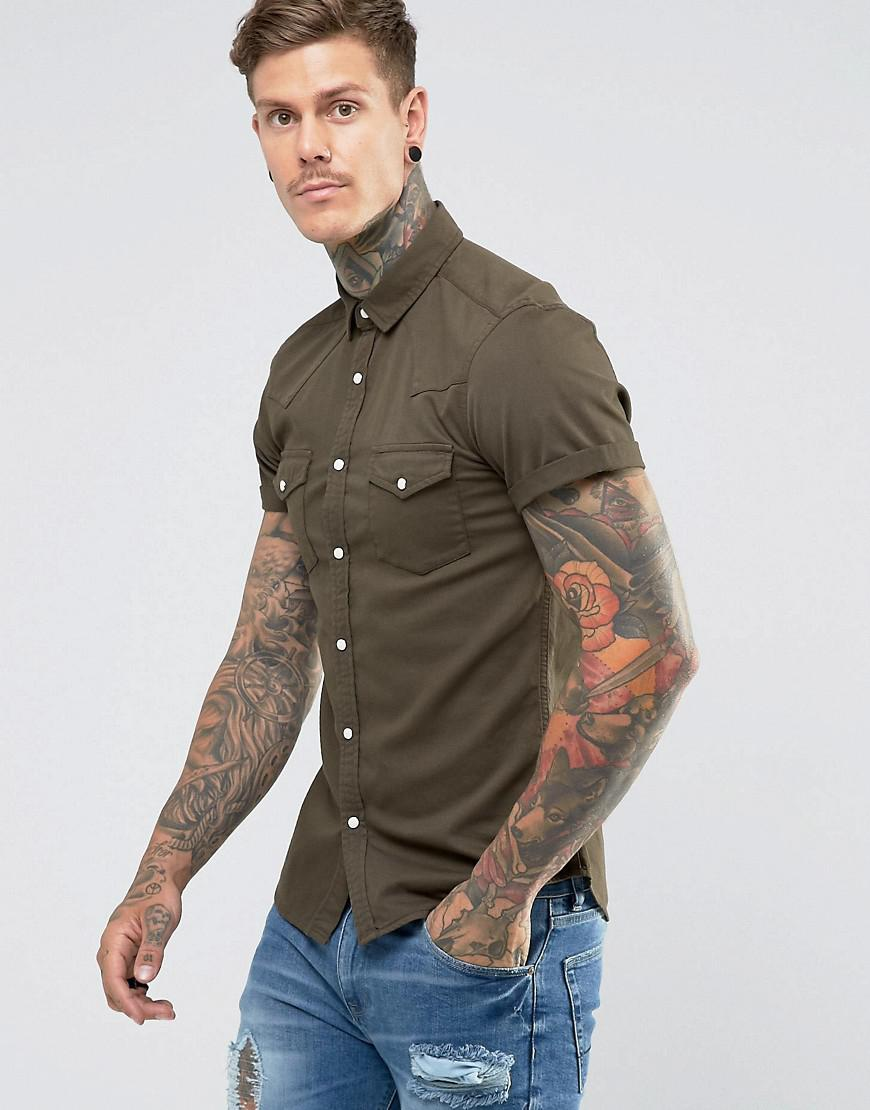teeshirt: (240, 212, 676, 962)
